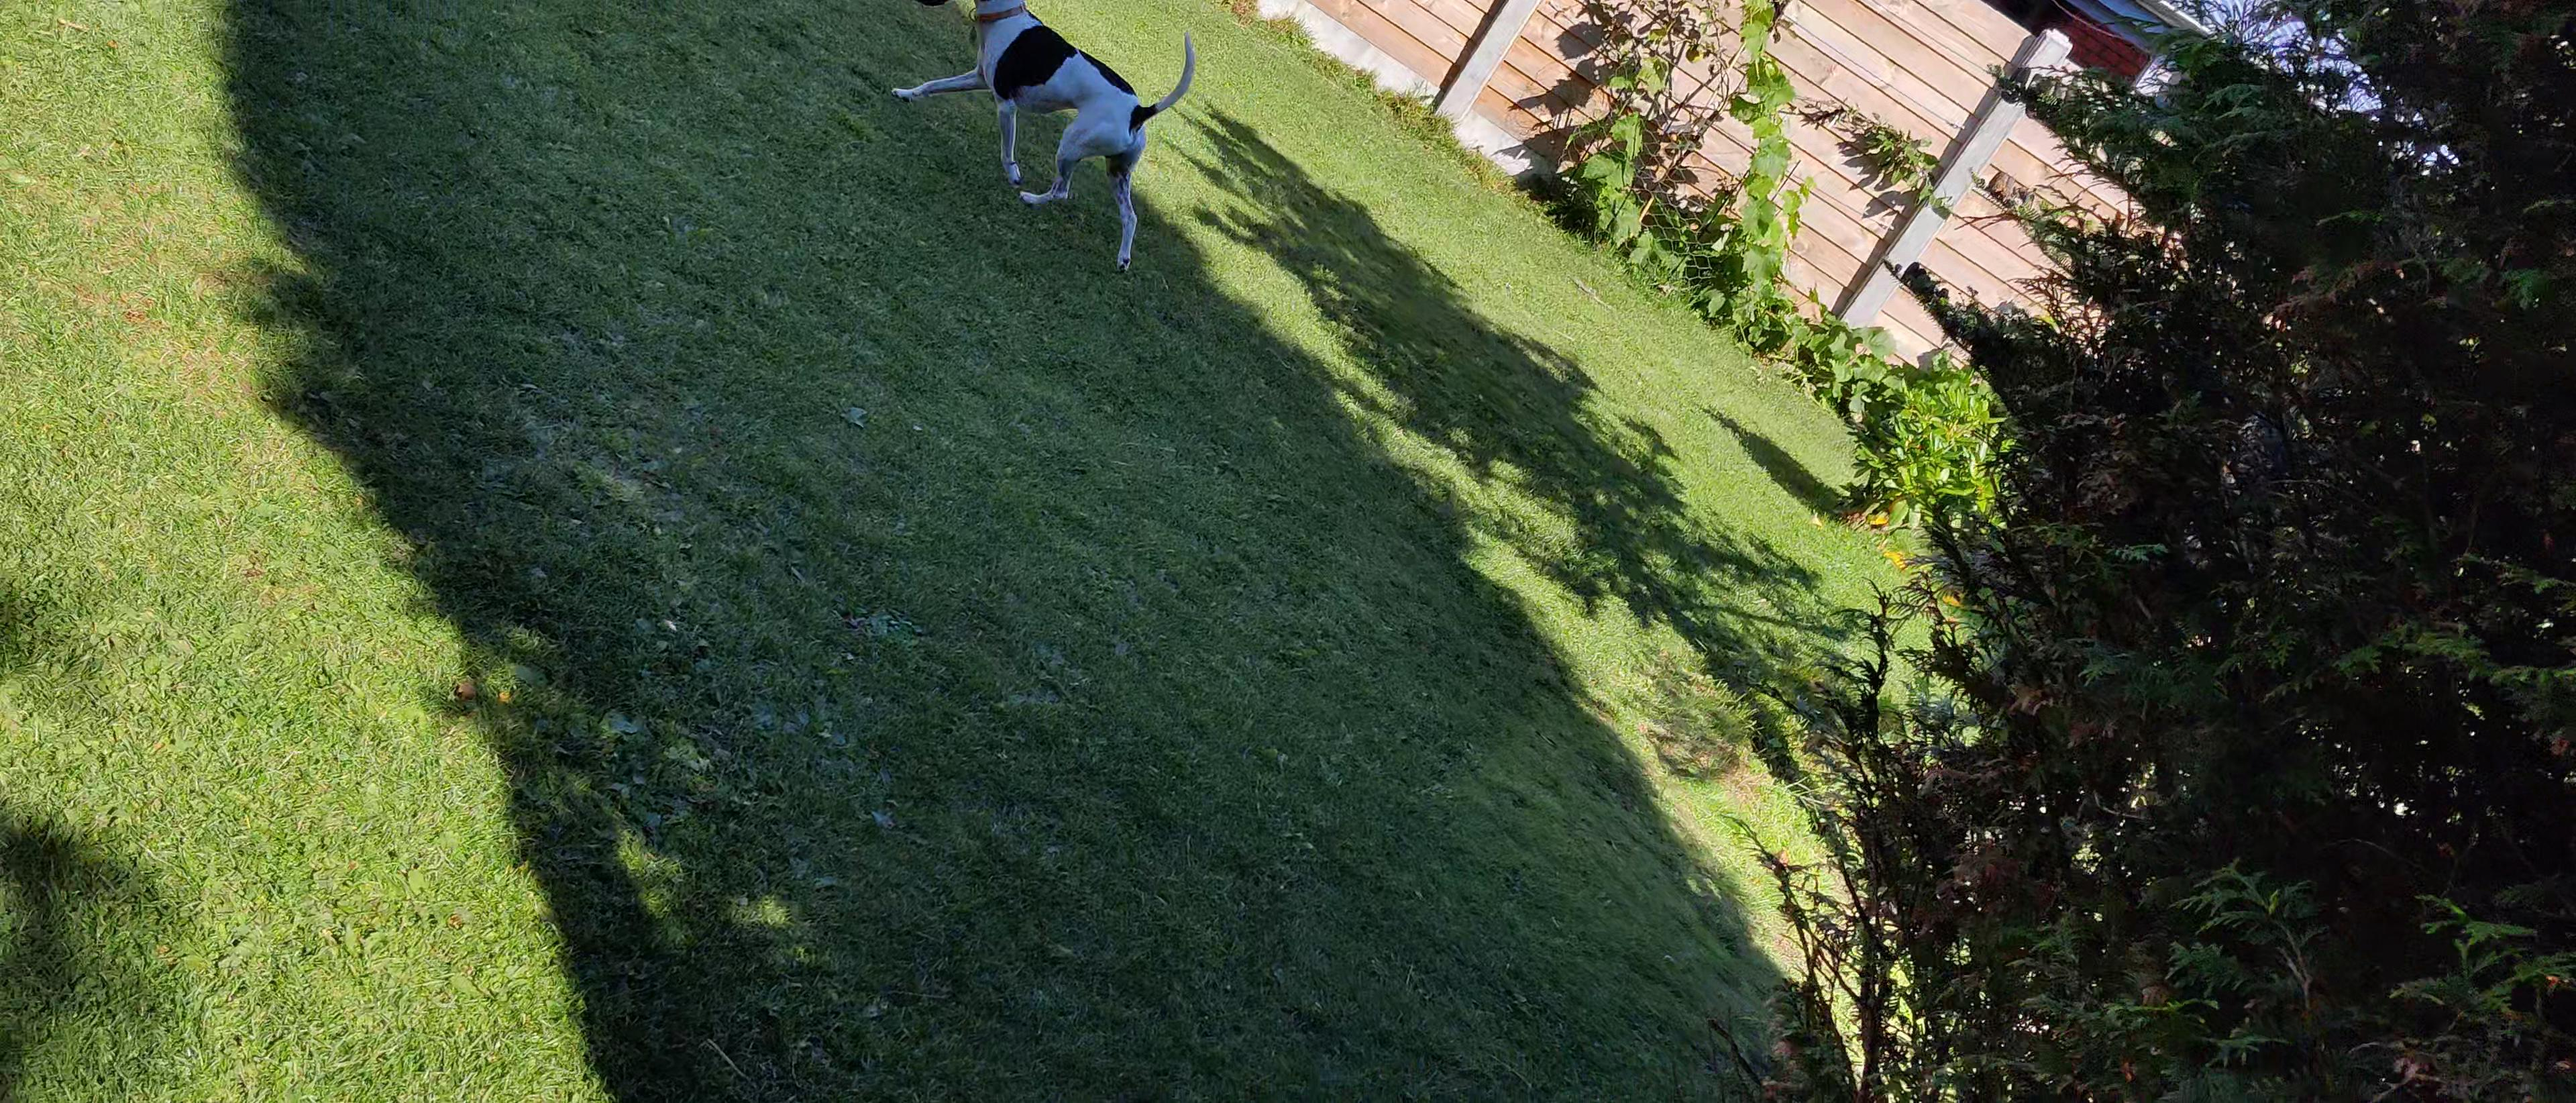Dog: (887, 0, 1199, 276)
